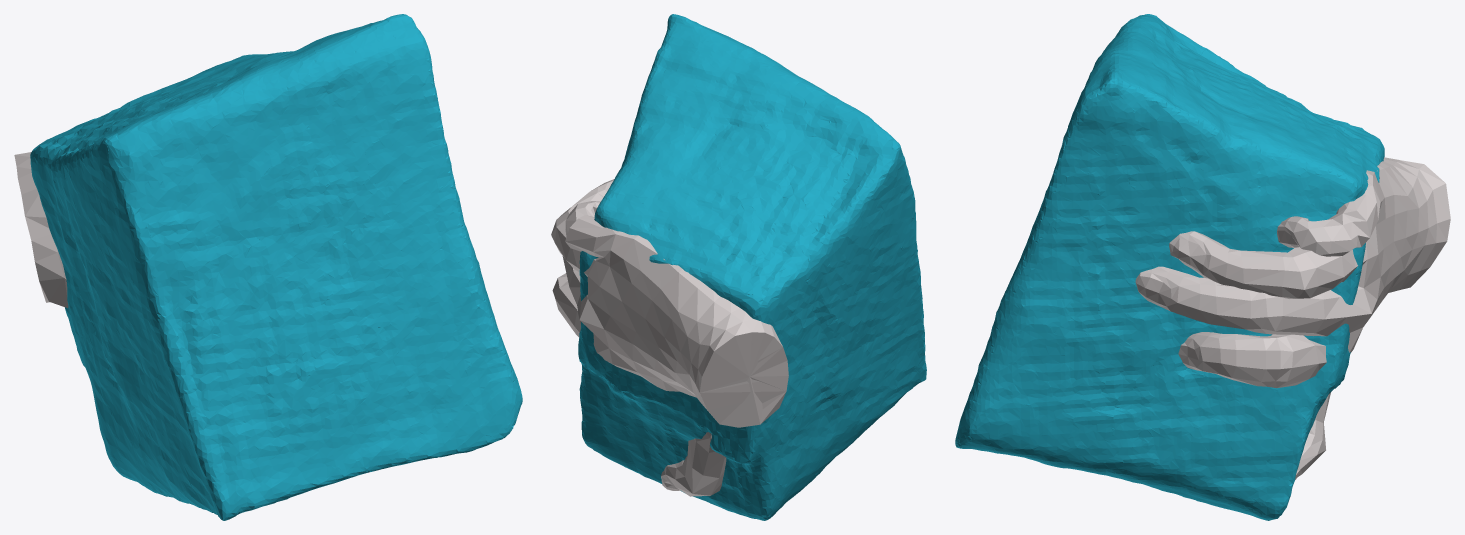
The picture shows the model from 3 angles, left to right: view 1: azimuth 30°, elevation 25°; view 2: azimuth 150°, elevation 25°; view 3: azimuth 270°, elevation 25°; orthographic projection. The views are drawn at different scales.
Visible parts, largest first — view 1: world; view 2: world; view 3: world.
Part boxes in pixels (x1=…): world: x1=14, y1=14, x2=522, y2=520; world: x1=551, y1=14, x2=926, y2=520; world: x1=955, y1=14, x2=1450, y2=520.
Size of the model in its own units: 0.149 by 0.2031 by 0.1947.
